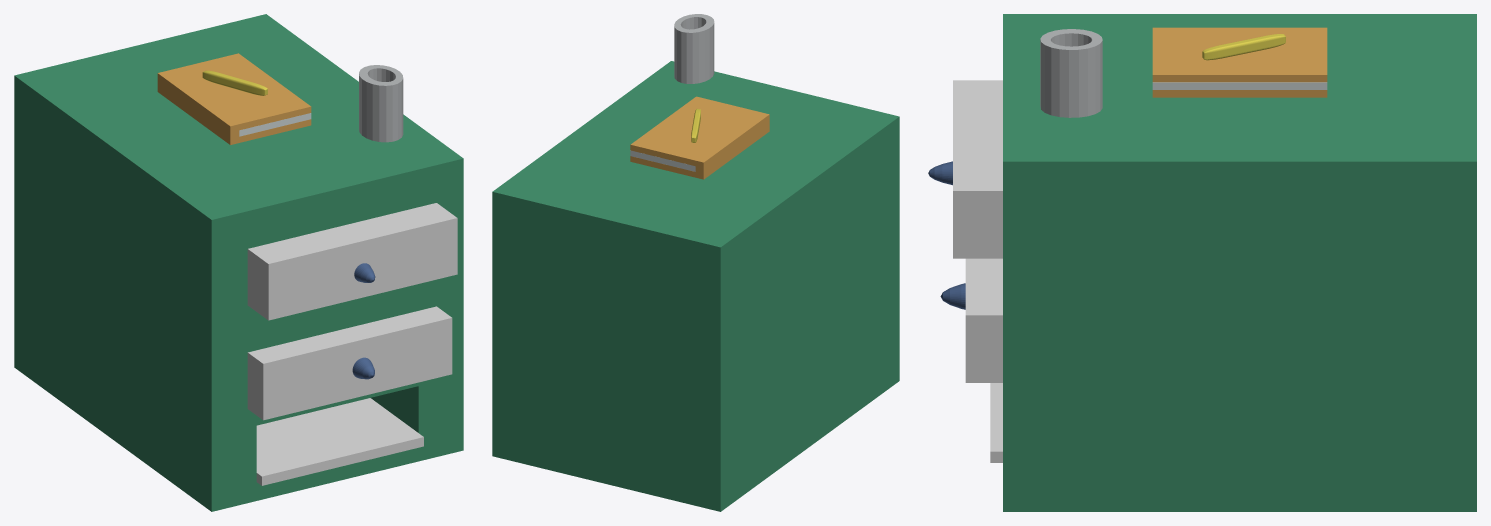
The model's file is Side-tABLE.glb.
3 renders of one model, left to right at view 1: azimuth 30°, elevation 25°; view 2: azimuth 150°, elevation 25°; view 3: azimuth 270°, elevation 25°, orthographic. The views are drawn at different scales.
Parts seen in each view (by area): view 1: Mesh_Mesh_head_geo.001_lambert2SG.001; view 2: Mesh_Mesh_head_geo.001_lambert2SG.001; view 3: Mesh_Mesh_head_geo.001_lambert2SG.001.
Boxes of the visible parts, x1=… form: Mesh_Mesh_head_geo.001_lambert2SG.001: x1=14, y1=14, x2=463, y2=511; Mesh_Mesh_head_geo.001_lambert2SG.001: x1=492, y1=14, x2=899, y2=511; Mesh_Mesh_head_geo.001_lambert2SG.001: x1=928, y1=14, x2=1476, y2=511.
Size of the model in its own units: 28 by 39 by 44.
